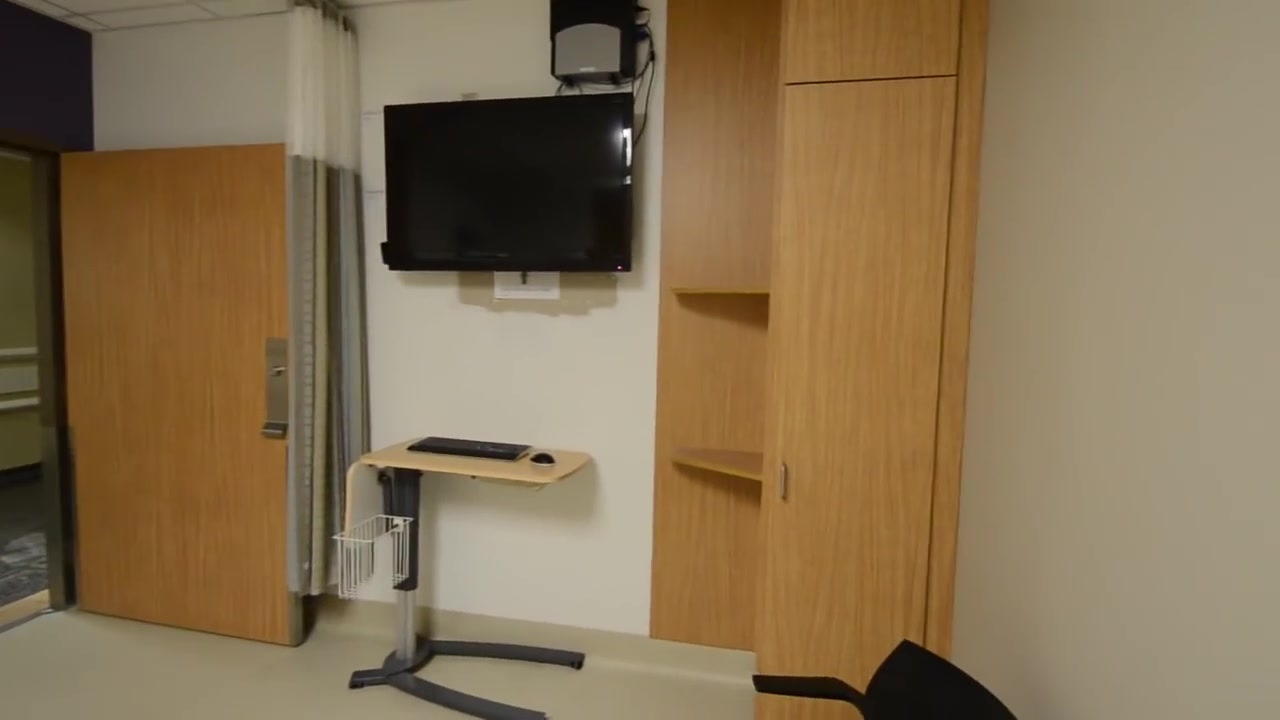TV: (380, 92, 633, 272)
chair: (751, 639, 1018, 720)
curtain: (287, 1, 370, 592)
handle: (777, 458, 789, 505)
mouse: (529, 452, 555, 467)
overbed_table: (338, 431, 592, 720)
